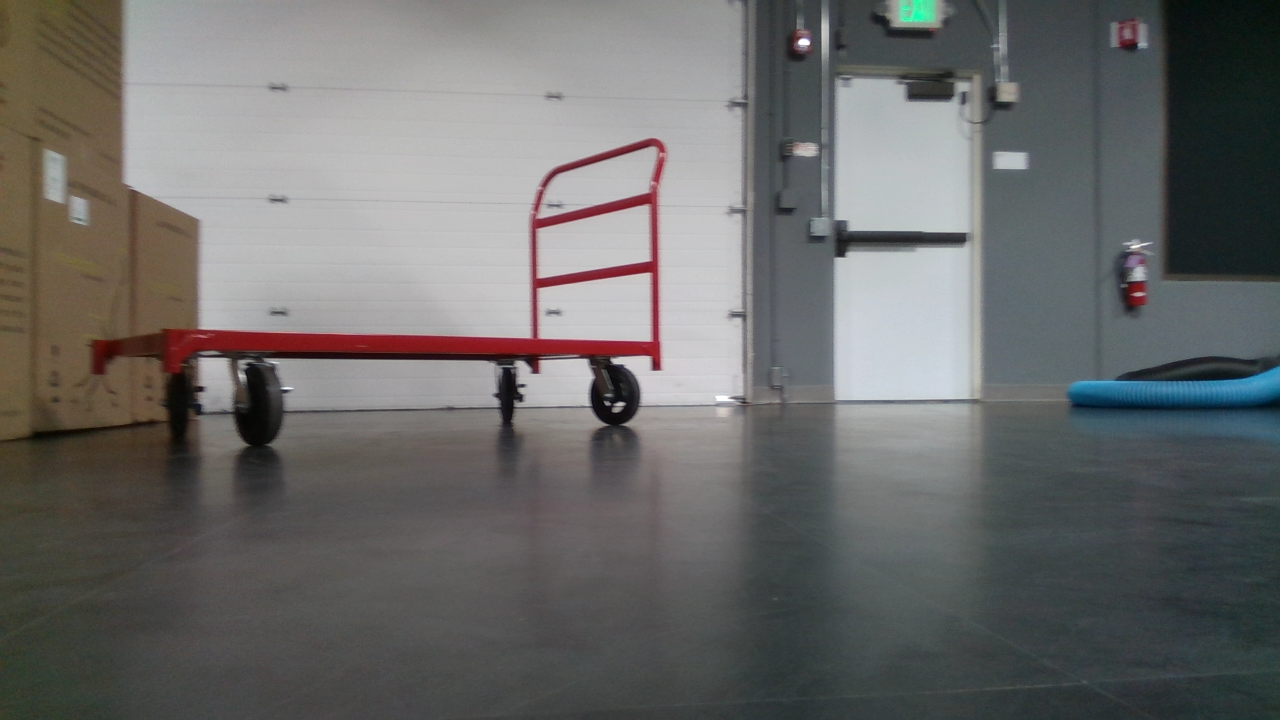Dolly: (91, 132, 670, 448)
Wheel: (225, 354, 289, 449), (158, 362, 200, 441), (590, 366, 643, 426), (493, 364, 526, 424)
